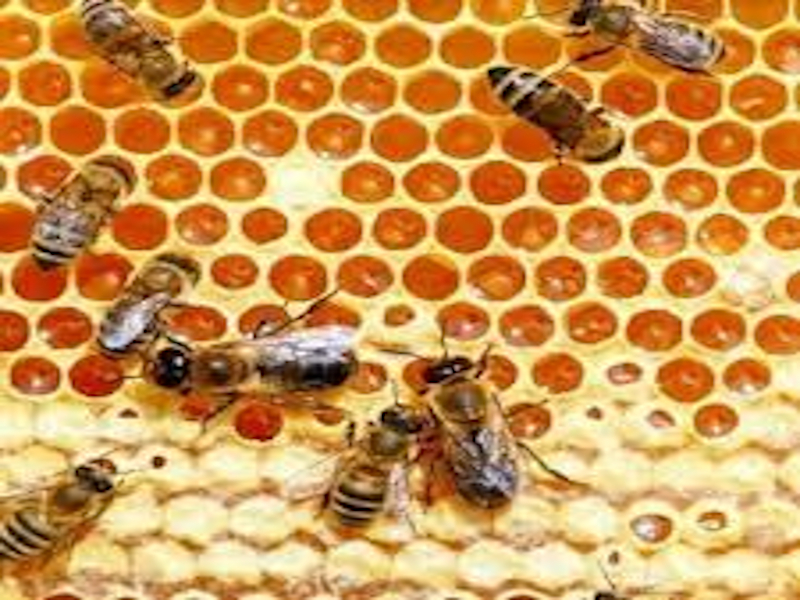abeja: (117, 293, 366, 437), (412, 316, 545, 532), (467, 52, 658, 185), (24, 149, 141, 283), (545, 3, 731, 83), (325, 406, 424, 522)
